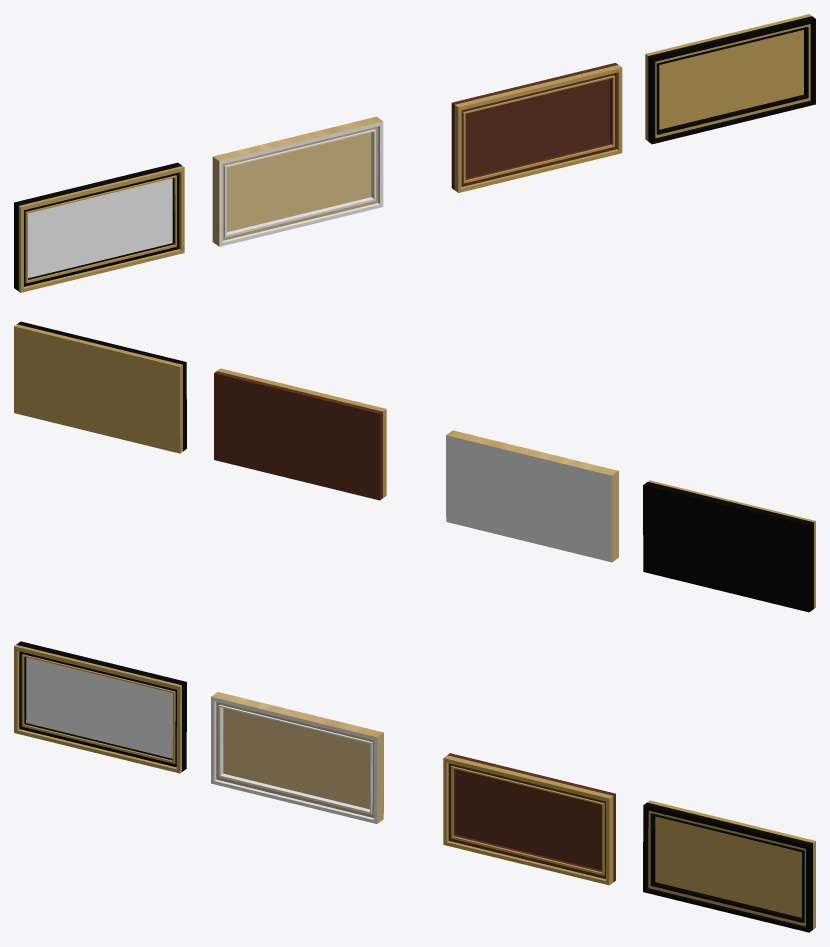
The model's file is cuadro.fbx.
3 renders of one model, top to bottom at view 1: azimuth 30°, elevation 25°; view 2: azimuth 150°, elevation 25°; view 3: azimuth 330°, elevation 25°, orthographic.
Parts seen in each view (by area): view 1: Plane, Plane.002, Plane.001, Plane.003; view 2: Plane.002, Plane, Plane.003, Plane.001; view 3: Plane, Plane.001, Plane.003, Plane.002.
Boxes of the visible parts, x1,y1,x2,y2 form: Plane: [212, 116, 383, 246]; Plane.002: [451, 63, 622, 192]; Plane.001: [14, 162, 184, 292]; Plane.003: [645, 14, 815, 144]; Plane.002: [214, 368, 386, 500]; Plane: [446, 430, 618, 562]; Plane.003: [14, 321, 186, 453]; Plane.001: [643, 480, 815, 612]; Plane: [211, 692, 383, 823]; Plane.001: [14, 641, 186, 773]; Plane.003: [643, 800, 815, 932]; Plane.002: [443, 753, 615, 885].
Size of the model in its own units: 482 by 50.11 by 14.72.
